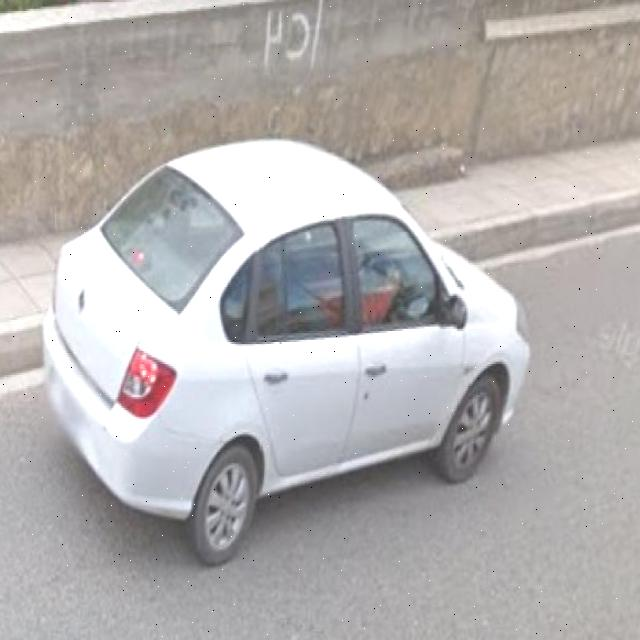car: (43, 141, 533, 568)
